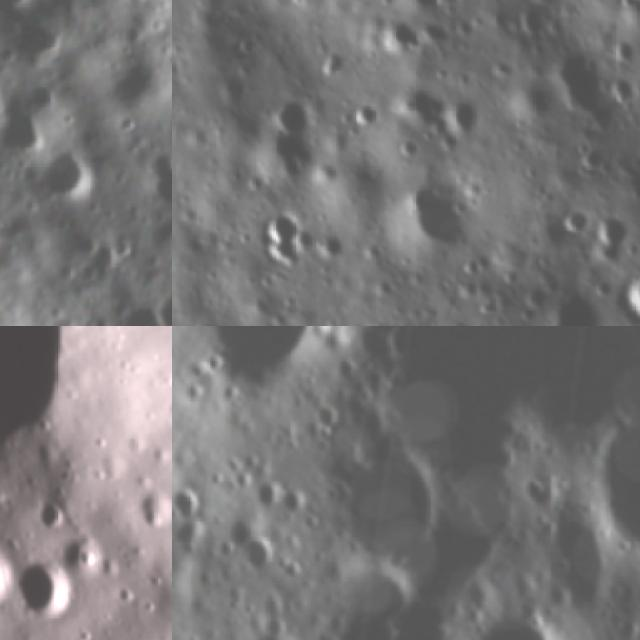crater: (300, 406, 463, 586), (0, 326, 112, 480), (524, 488, 620, 623), (176, 326, 350, 392), (572, 405, 640, 563), (402, 166, 471, 254), (17, 551, 85, 626), (172, 466, 223, 566), (461, 600, 573, 640), (546, 56, 609, 113), (232, 524, 283, 579), (133, 478, 172, 538), (0, 534, 26, 617), (260, 206, 296, 263), (546, 289, 601, 326), (268, 92, 319, 131), (34, 488, 74, 535), (48, 152, 85, 198), (596, 218, 636, 260), (441, 94, 484, 129), (381, 16, 420, 53), (344, 102, 383, 130), (623, 564, 640, 627), (245, 624, 310, 640), (522, 6, 556, 35), (573, 144, 609, 171), (564, 206, 594, 237), (152, 160, 172, 202), (319, 48, 351, 74), (612, 35, 640, 64), (322, 230, 350, 256), (629, 266, 640, 323), (614, 79, 640, 102), (112, 240, 140, 260), (295, 223, 318, 246)
